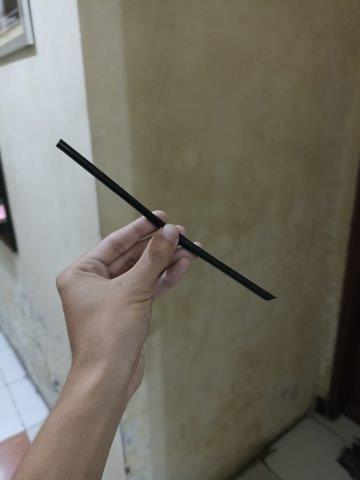sedotan: (56, 139, 277, 300)
